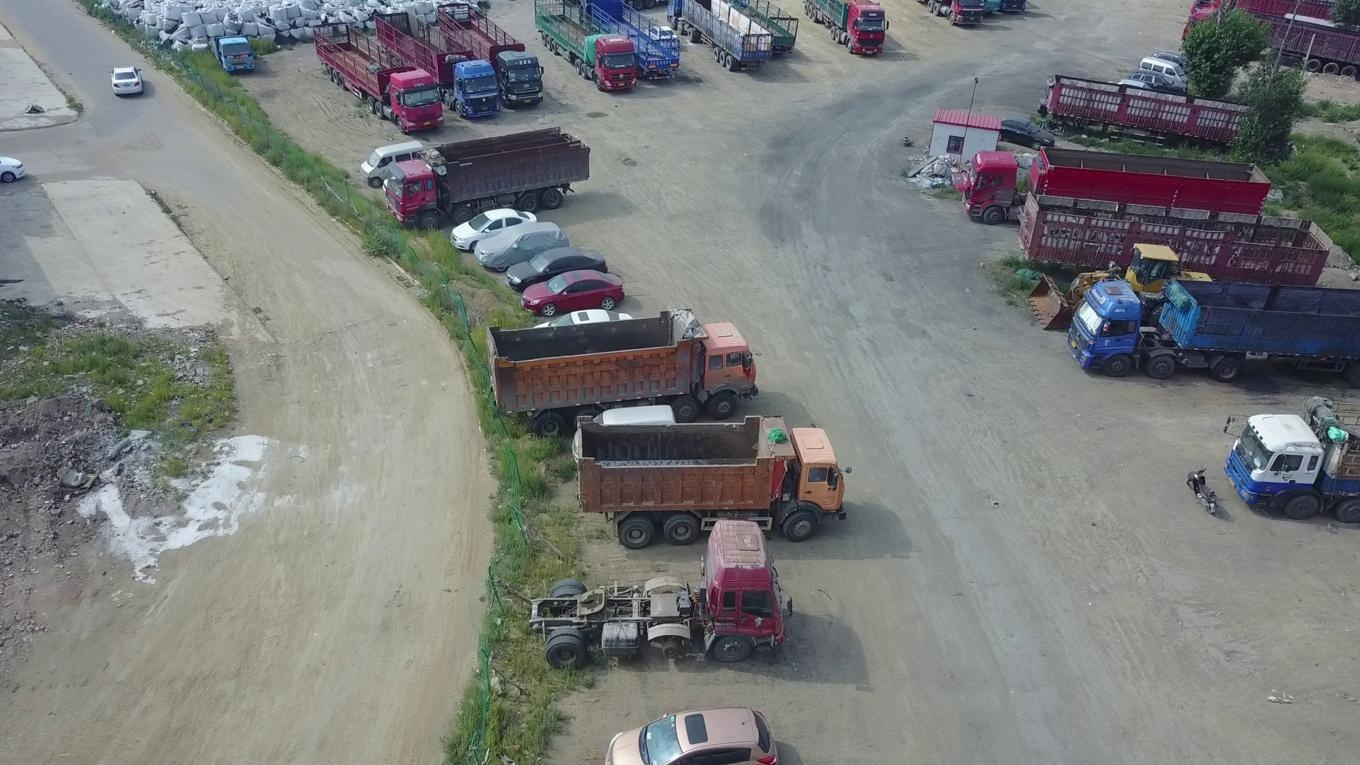car: (608, 707, 777, 765), (521, 268, 625, 315), (504, 246, 607, 293), (474, 222, 568, 271), (524, 310, 633, 351), (452, 208, 536, 251), (1129, 71, 1173, 101), (1116, 80, 1160, 109), (1150, 51, 1194, 80), (110, 65, 143, 96)
truck: (528, 519, 793, 665), (481, 307, 759, 434), (570, 421, 849, 542), (952, 146, 1271, 240), (1067, 282, 1360, 382), (385, 126, 587, 227), (312, 23, 443, 133), (374, 11, 500, 119), (1172, 9, 1360, 76), (432, 3, 545, 109), (533, 0, 639, 91), (580, 0, 680, 78), (664, 0, 771, 72), (698, 0, 798, 54), (803, 0, 887, 58)
van: (362, 140, 424, 189), (1140, 57, 1189, 96)
